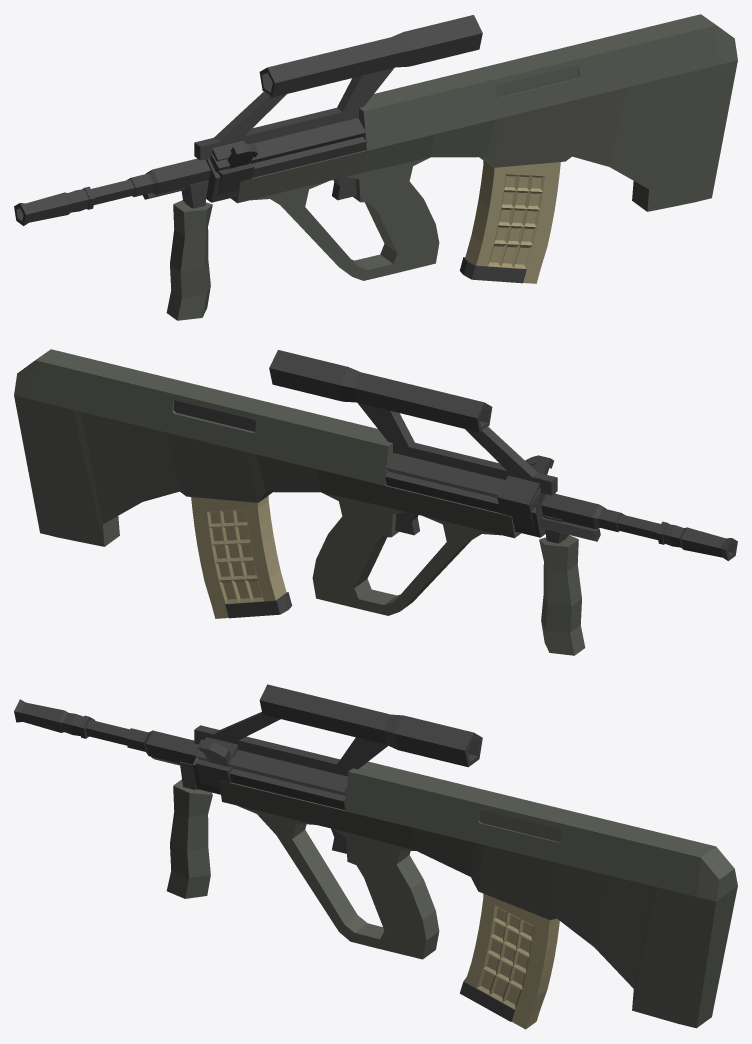
Rendered from AugA1.fbx.
The picture shows the model from 3 angles, top to bottom: view 1: azimuth 30°, elevation 25°; view 2: azimuth 150°, elevation 25°; view 3: azimuth 330°, elevation 25°; orthographic projection.
Parts seen in each view (by area): view 1: Main, Scope, Mag, Barrel, Grip, BoltHandle; view 2: Main, Scope, Mag, Barrel, Grip, Bolt; view 3: Main, Scope, Mag, Barrel, Grip, BoltHandle.
Boxes of the visible parts, <box> form: Main: <box>205,14,737,280</box>; Scope: <box>194,15,482,160</box>; Mag: <box>459,160,560,283</box>; Barrel: <box>14,140,254,225</box>; Grip: <box>166,200,212,320</box>; BoltHandle: <box>226,143,257,169</box>; Main: <box>14,349,546,615</box>; Scope: <box>269,350,557,495</box>; Mag: <box>191,495,292,618</box>; Barrel: <box>497,475,737,560</box>; Grip: <box>539,535,585,655</box>; Bolt: <box>174,400,255,431</box>; Main: <box>193,750,737,1028</box>; Scope: <box>194,684,482,776</box>; Mag: <box>459,893,559,1029</box>; Barrel: <box>14,699,237,789</box>; Grip: <box>166,779,212,898</box>; BoltHandle: <box>198,739,231,767</box>.
Size of the model in its own units: 896 by 338 by 73.01.
